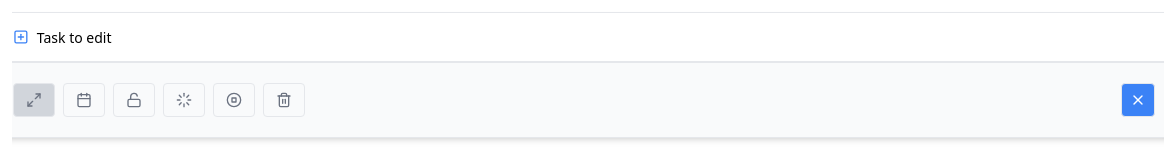
<EditTaskForm> › change the button when changed the task content
The image size is (1176, 160).
Type "Task updated" into the field named "task-content". click: (596,37)
box: [29,21,1163,53]
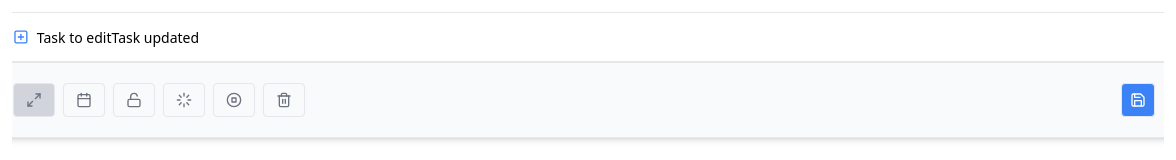
Check: the icon with test id "edit-save-button" is shown, box [1130,92,1146,108]
